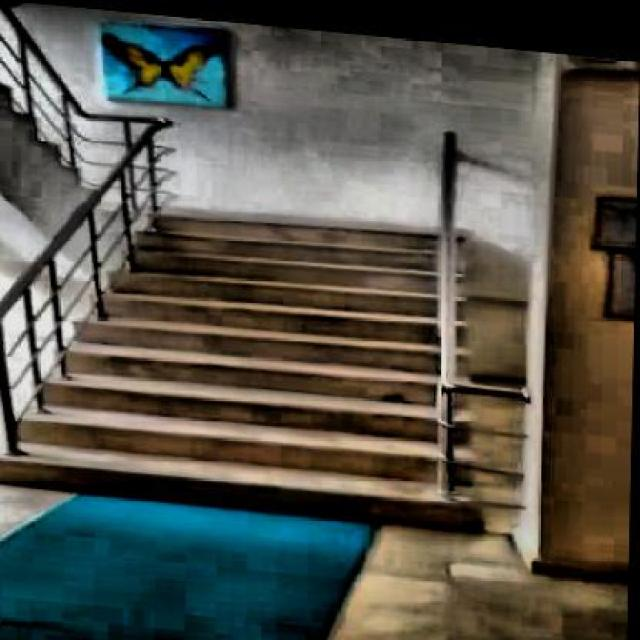stair: (0, 175, 512, 529)
